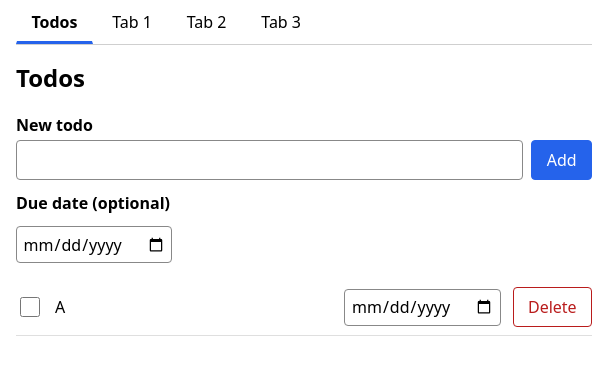
Scenario: UI18 toggle › UI18 on failure the checkbox reverts and #status shows the error
Click the checkbox with id "todo-1" at point(30, 307), box [20,297,40,317]
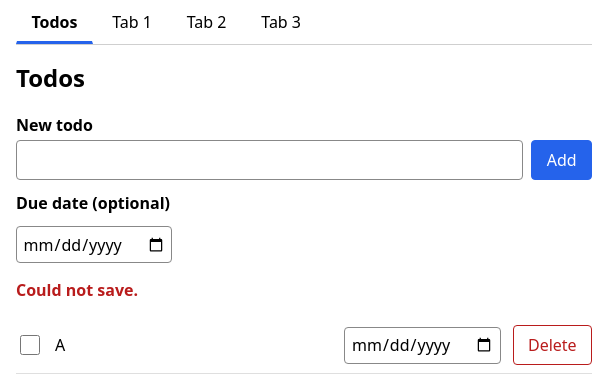
expect the checkbox with id "todo-1" is not checked: met, box [20,335,40,355]
expect the message with id "status" reads "Could not save.": met, box [16,279,138,301]
